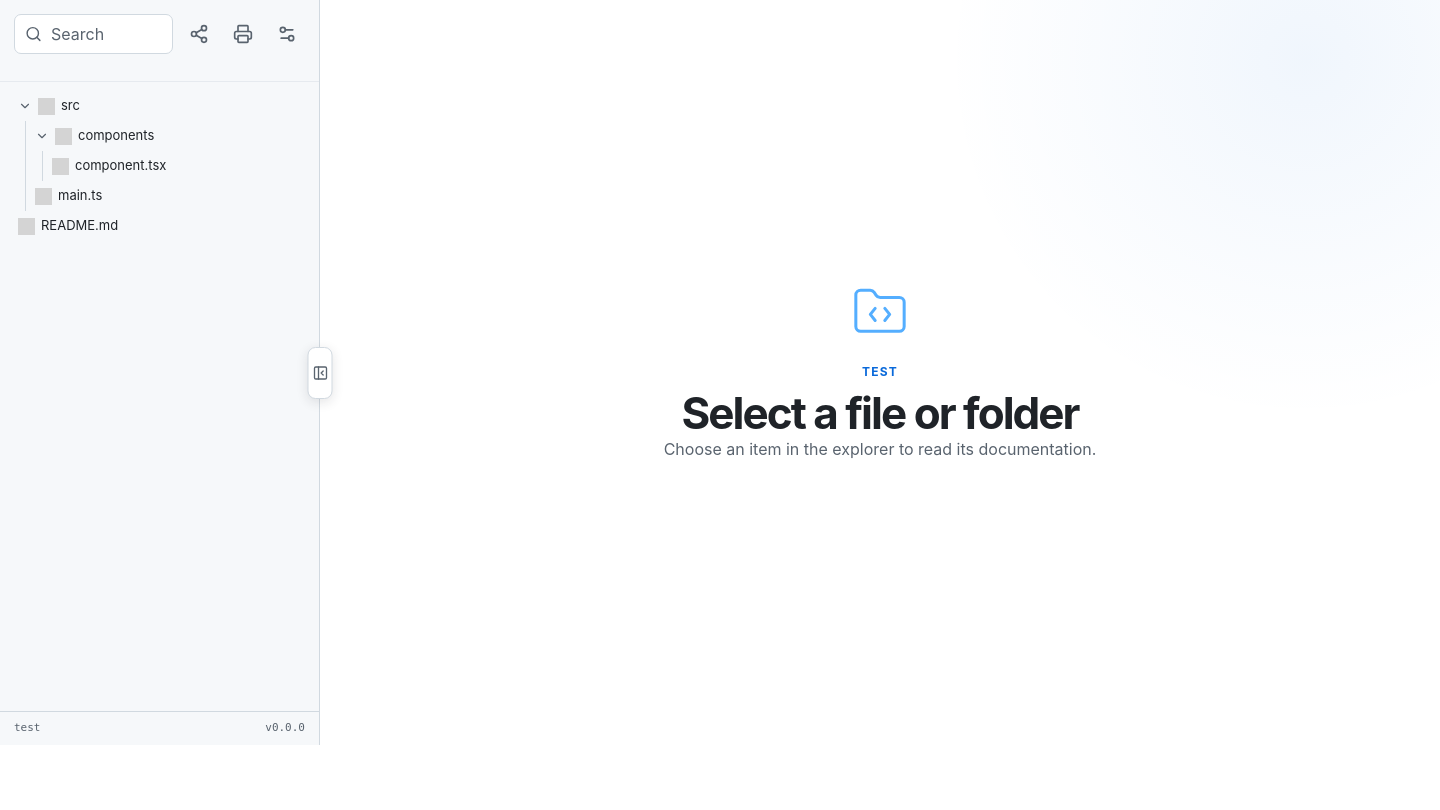
replaces history while typing in folders, preserves source and anchor, and omits an empty filter
This screenshot has width=1440, height=810.
Expected: the element named "Structure contents" is shown, [18,97,166,235]
Type "comp" into the search field named "Search structure".
click(94, 34); type("comp")  # box [14,14,173,54]
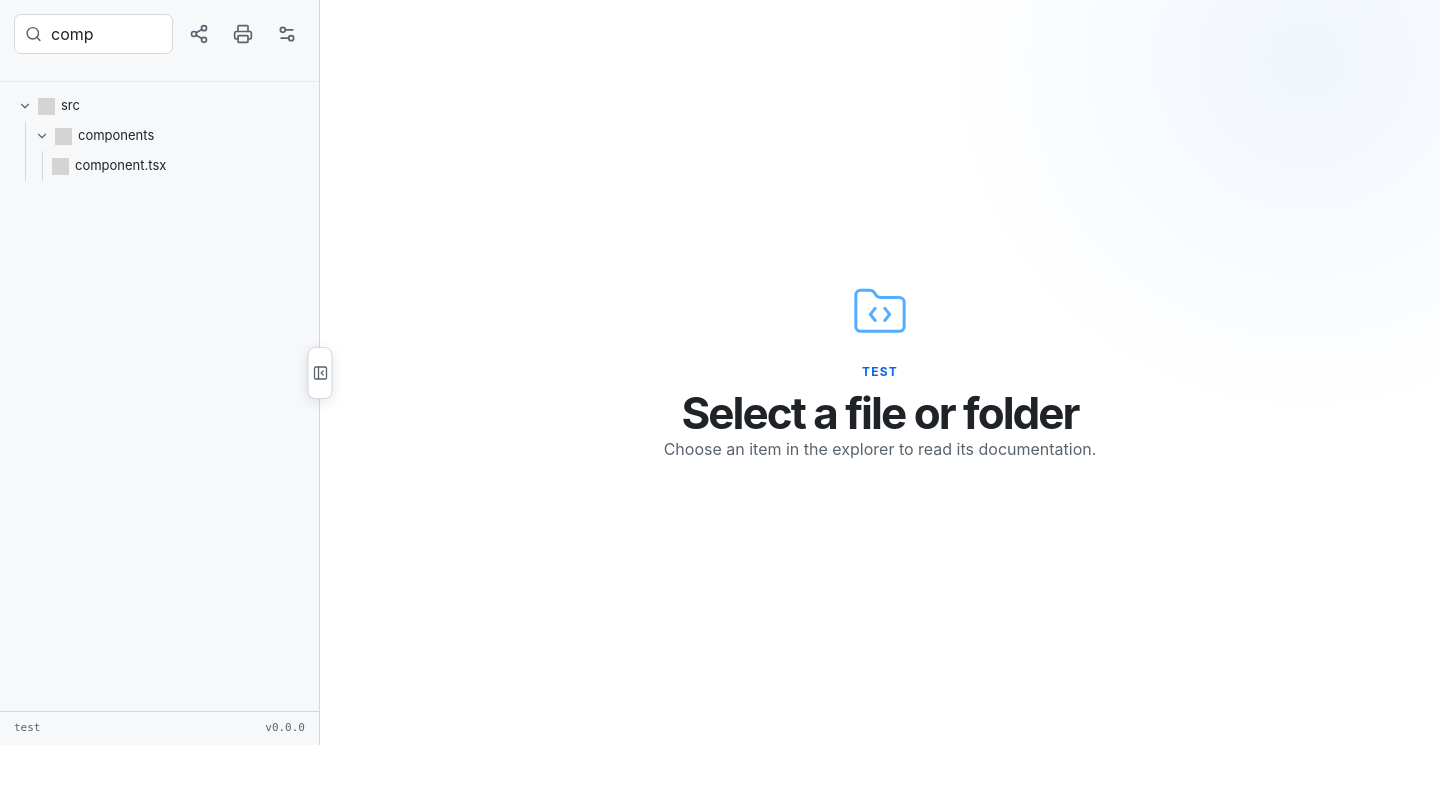
Replace the text in the search field named "Search structure" with "component" at (94, 34), box [14,14,173,54]
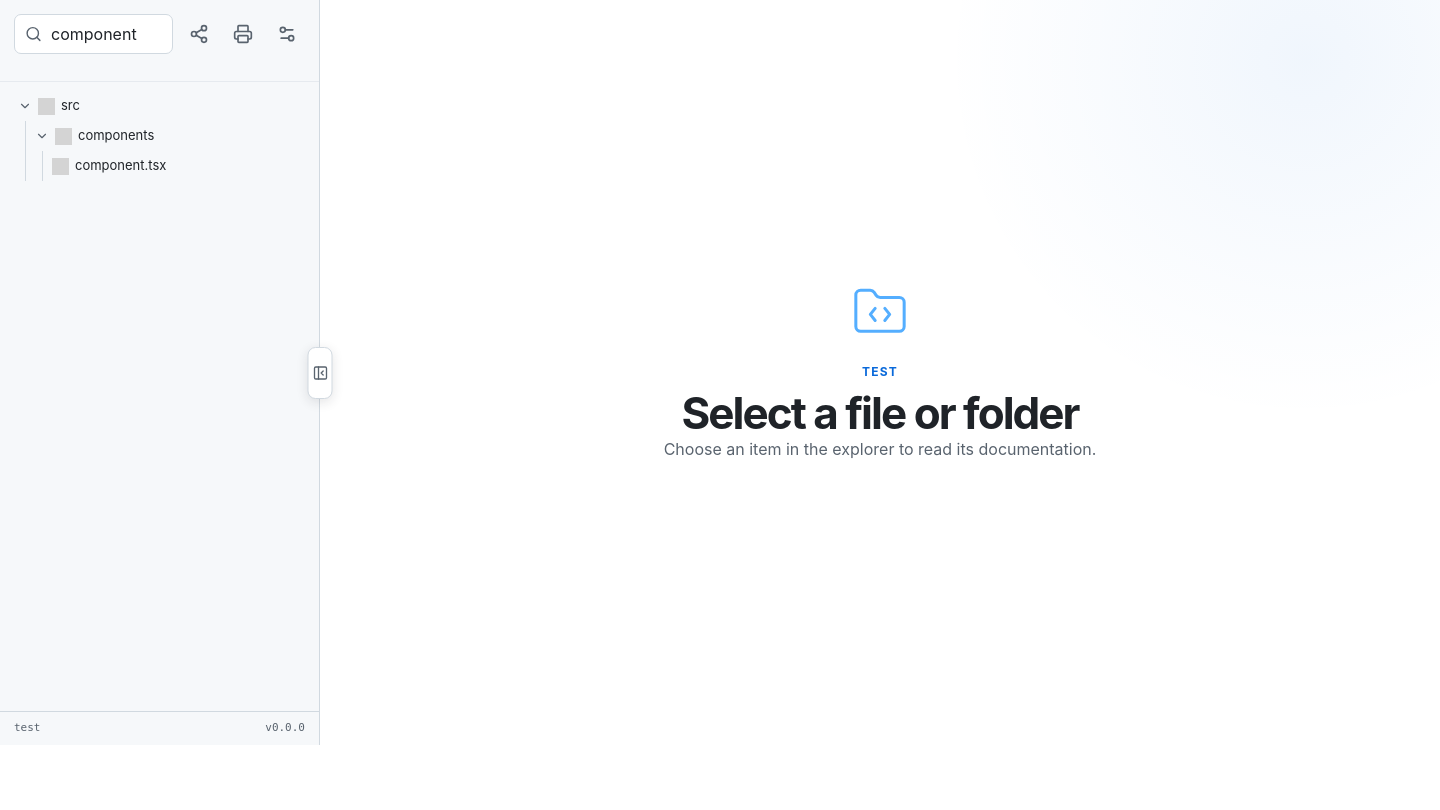
Replace the text in the search field named "Search structure" with "missing" at (94, 34), box [14,14,173,54]
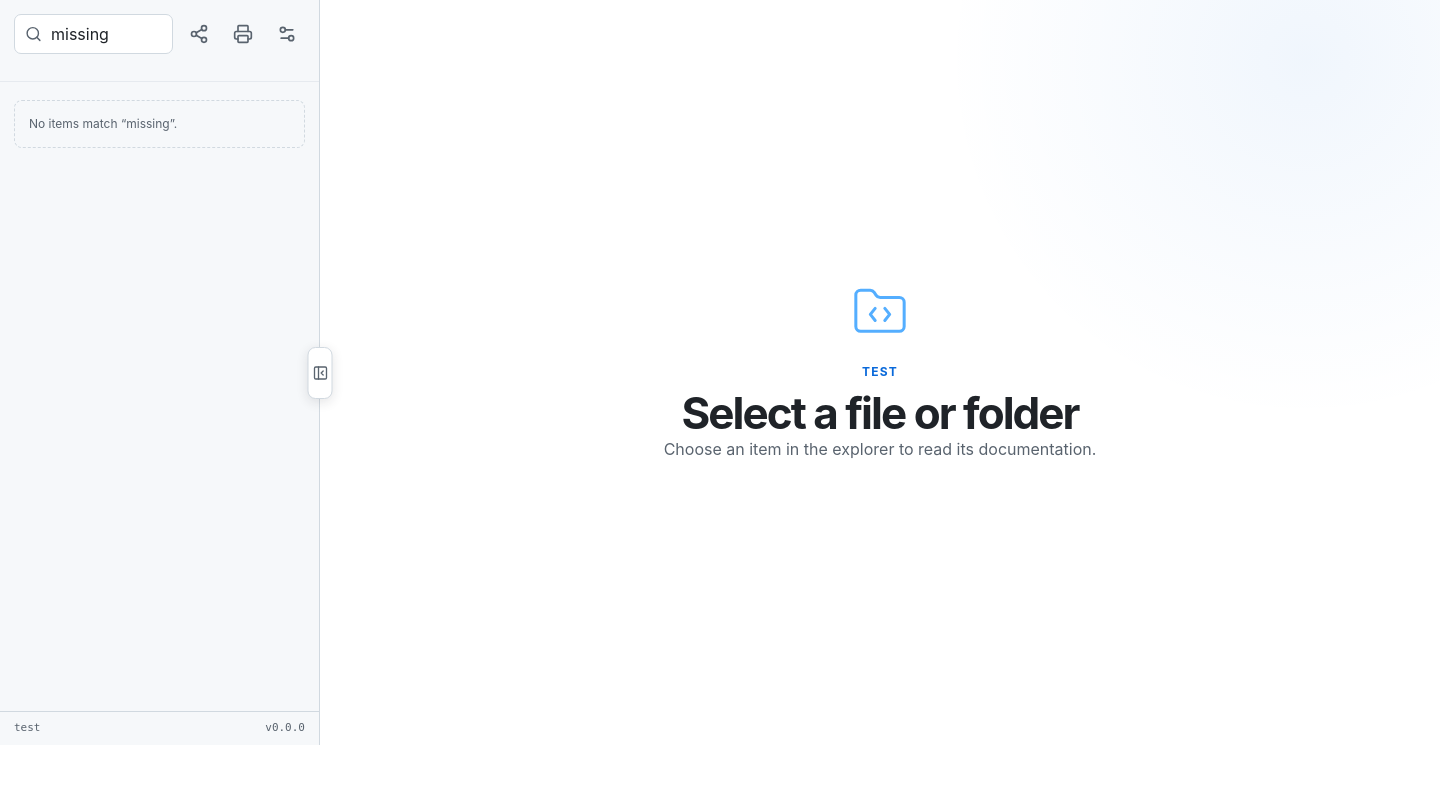
Expected: the text "No items match “missing”." is shown, [14,100,305,148]
Clear the search field named "Search structure" at (94, 34), box [14,14,173,54]
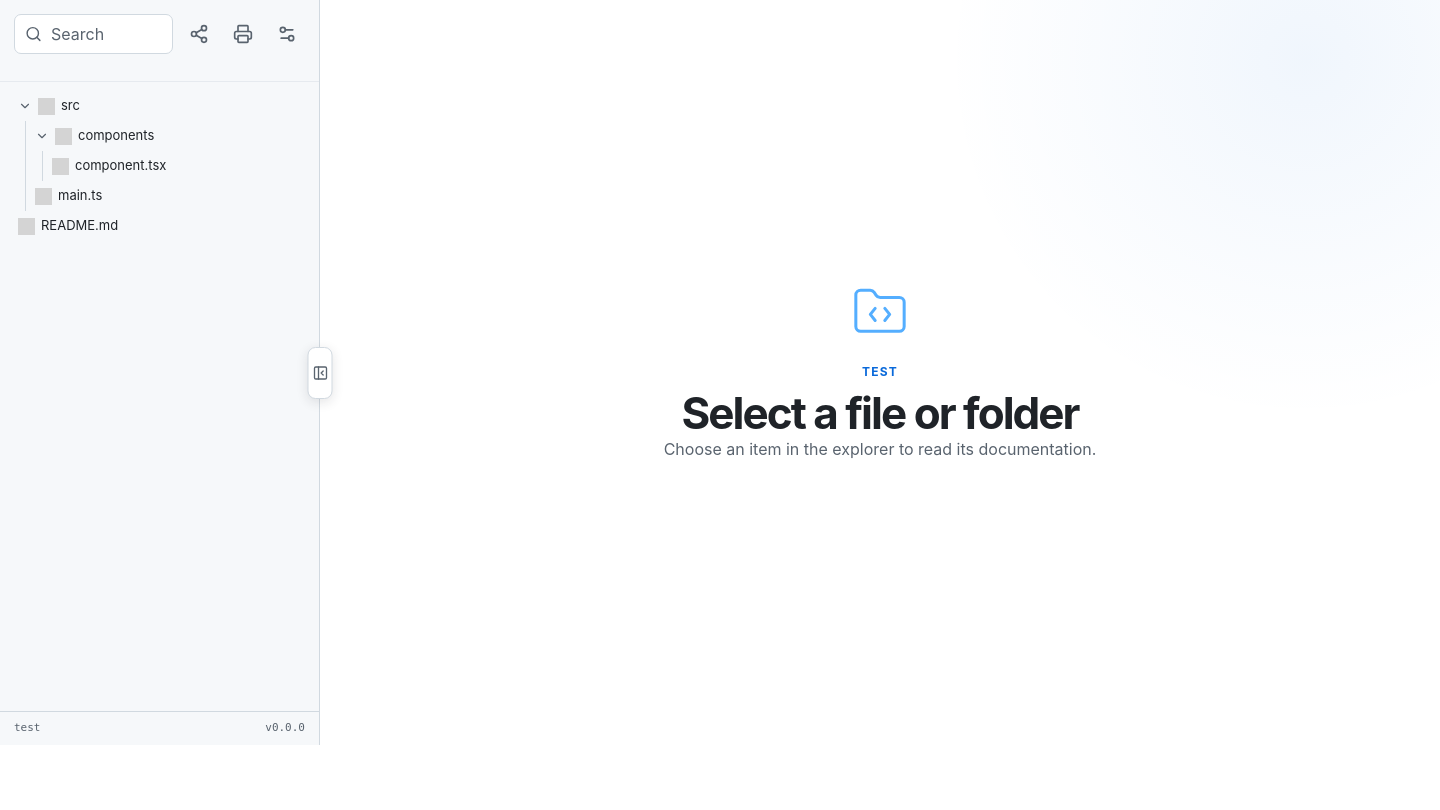
Expected: the list item "README.md" is shown, [18,217,118,235]
